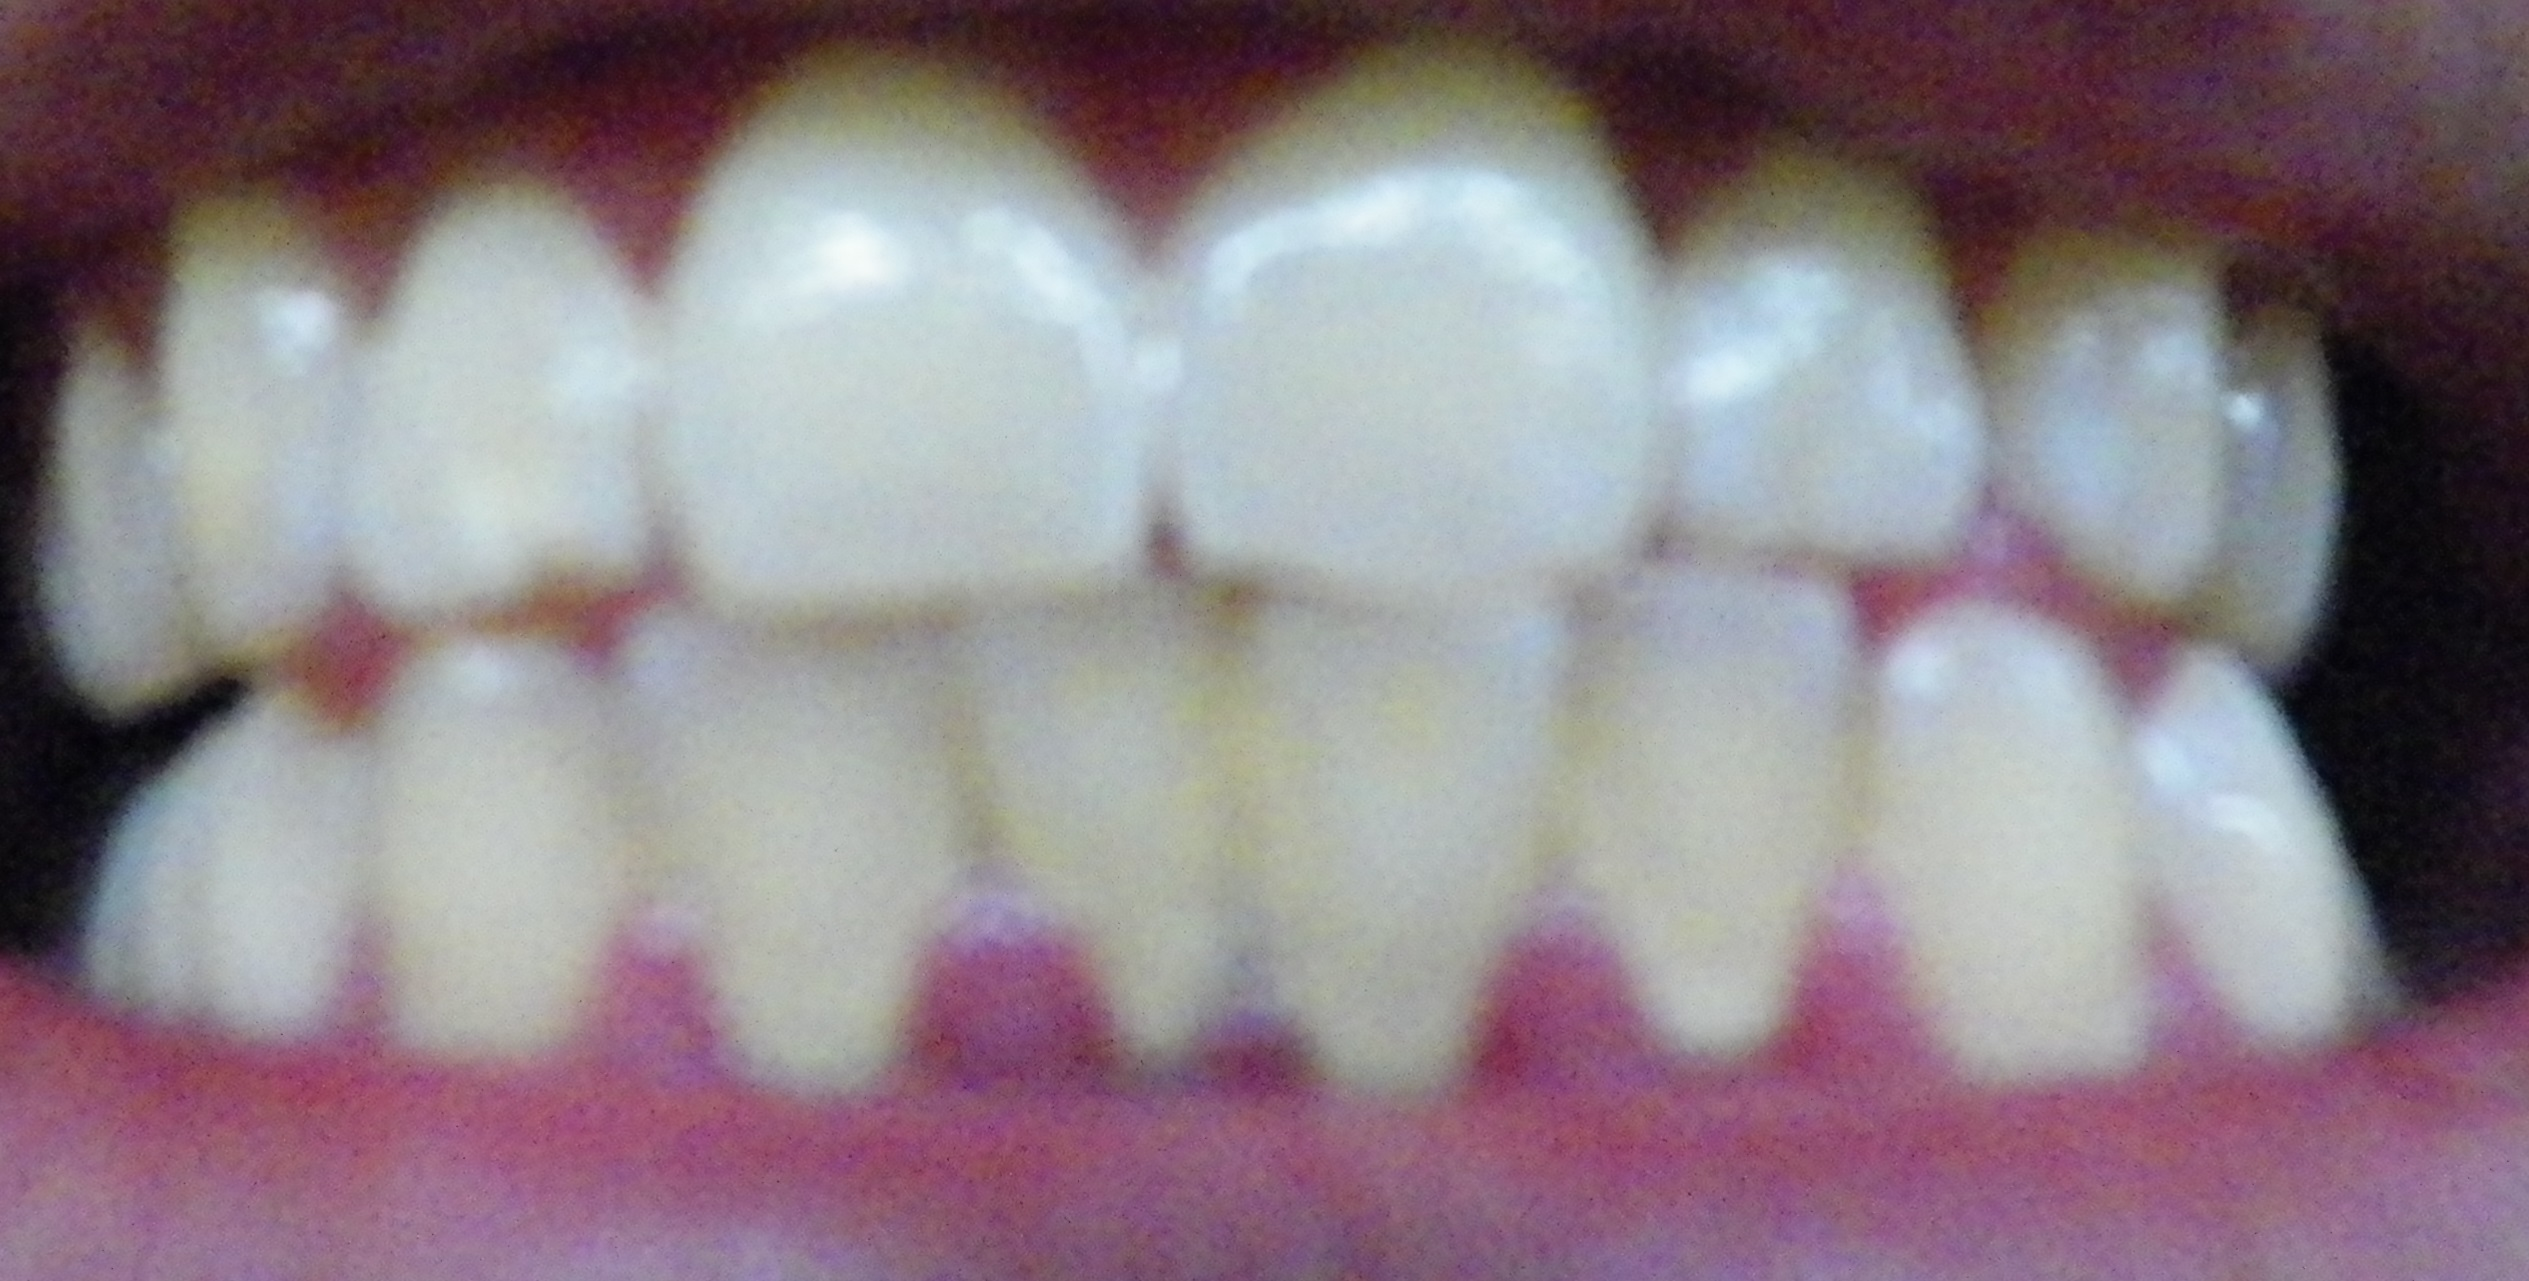boca: (41, 64, 2411, 1057)
